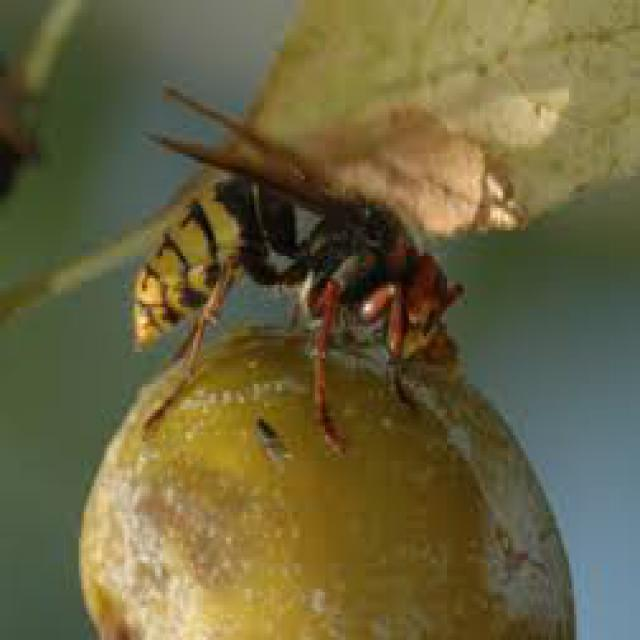Vespa Velutina: (113, 70, 474, 464)
